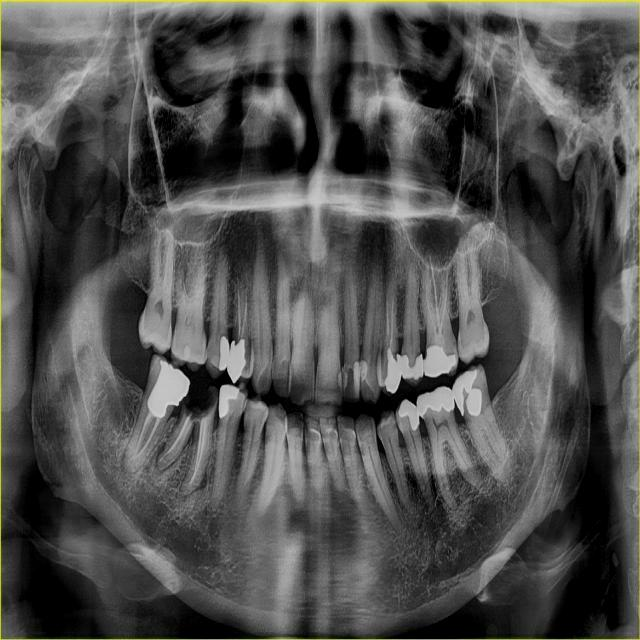Caries: (451, 334, 458, 356), (457, 336, 462, 351), (415, 344, 421, 356), (393, 419, 398, 433), (396, 416, 400, 429), (377, 426, 381, 438)
Filling: (147, 360, 189, 419), (453, 369, 483, 416), (417, 387, 454, 419), (423, 345, 456, 377), (227, 340, 246, 383), (384, 347, 401, 394), (219, 384, 239, 418), (398, 399, 419, 431), (401, 355, 424, 379), (218, 336, 229, 370), (353, 361, 361, 399), (360, 359, 369, 391), (341, 368, 349, 394), (337, 370, 343, 393), (184, 343, 191, 360)
Root Canal Treatment: (130, 417, 161, 459), (131, 411, 153, 456), (431, 256, 441, 346), (426, 282, 438, 345), (441, 271, 448, 349), (241, 294, 247, 335), (237, 278, 241, 337), (390, 298, 394, 348), (387, 296, 389, 335)
Root Piece: (175, 382, 218, 498), (156, 389, 200, 472)
